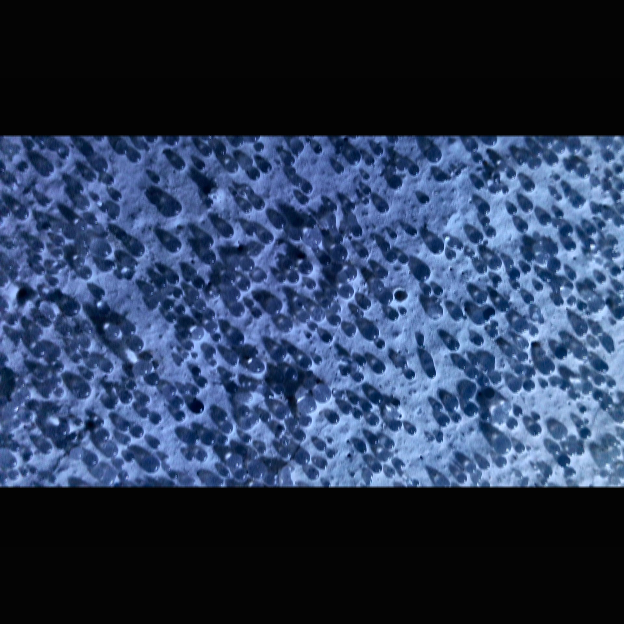GrassBeadSeg: (312, 384, 331, 403), (297, 395, 316, 414), (161, 200, 182, 217), (304, 228, 322, 247), (134, 360, 153, 376), (495, 437, 512, 454), (594, 452, 611, 469), (93, 242, 112, 257), (338, 267, 357, 282), (414, 265, 430, 282), (143, 457, 160, 473), (426, 304, 442, 321), (266, 299, 282, 315), (362, 325, 379, 340), (538, 360, 555, 375), (249, 463, 266, 478), (332, 246, 347, 262), (429, 239, 445, 254), (248, 360, 265, 374), (76, 384, 91, 399), (514, 319, 529, 334), (225, 287, 241, 301), (278, 319, 294, 333), (39, 163, 55, 177), (230, 303, 245, 317), (272, 348, 287, 362), (427, 148, 441, 163), (339, 285, 354, 299), (295, 451, 310, 465), (65, 302, 80, 316), (311, 308, 326, 322), (229, 332, 245, 345), (166, 239, 182, 252), (131, 243, 145, 257), (129, 338, 143, 352), (347, 151, 361, 165), (284, 368, 298, 382), (106, 325, 120, 339), (33, 344, 47, 358), (227, 455, 242, 468), (252, 270, 267, 283), (191, 327, 206, 340), (202, 252, 216, 265), (200, 235, 214, 248), (105, 444, 118, 458), (299, 356, 313, 369), (552, 427, 566, 440), (47, 348, 61, 361), (71, 447, 85, 460), (379, 292, 392, 305), (241, 258, 254, 271), (276, 406, 289, 419), (202, 432, 215, 445), (300, 262, 313, 275), (191, 401, 204, 414), (220, 226, 234, 238), (389, 177, 403, 189), (260, 232, 274, 244), (223, 273, 237, 285), (470, 232, 483, 244), (273, 217, 286, 229), (85, 454, 98, 466), (123, 324, 136, 336), (577, 166, 590, 178), (16, 208, 29, 220), (186, 432, 199, 444), (445, 399, 458, 411), (292, 143, 304, 156), (510, 380, 522, 393), (290, 229, 303, 241), (170, 397, 184, 408), (101, 261, 115, 272), (359, 298, 371, 310), (248, 169, 260, 181), (80, 268, 92, 280), (489, 258, 501, 270), (239, 279, 251, 291), (40, 442, 52, 454), (121, 391, 133, 403), (204, 347, 216, 359), (465, 404, 477, 416), (288, 272, 300, 284), (298, 311, 310, 323), (575, 324, 587, 336), (60, 324, 72, 336), (541, 271, 553, 283), (591, 301, 603, 313), (490, 373, 502, 385), (602, 397, 614, 409), (294, 298, 306, 310), (609, 448, 621, 460), (373, 363, 386, 374), (205, 322, 218, 333), (101, 361, 114, 372), (77, 199, 90, 210), (299, 416, 312, 427), (147, 375, 160, 386), (345, 325, 356, 337), (478, 204, 490, 215), (221, 423, 233, 434), (174, 159, 186, 170), (539, 215, 551, 226), (97, 430, 109, 441), (329, 315, 341, 326), (129, 152, 141, 163), (168, 273, 179, 285), (93, 288, 105, 299), (524, 379, 535, 391), (105, 398, 117, 409), (132, 426, 143, 438), (33, 241, 45, 252), (475, 293, 487, 304), (546, 155, 558, 166), (87, 358, 99, 369), (196, 450, 208, 461), (467, 368, 479, 379), (537, 253, 549, 264), (109, 208, 120, 220), (529, 159, 541, 170), (5, 456, 17, 467), (96, 161, 108, 172), (117, 144, 129, 155), (142, 285, 154, 296), (81, 144, 93, 155), (605, 250, 617, 261), (549, 262, 561, 273), (610, 266, 622, 277), (555, 348, 567, 359), (582, 290, 594, 301), (576, 349, 588, 360), (582, 382, 593, 394), (594, 375, 606, 386), (597, 361, 608, 373), (18, 390, 30, 401), (7, 403, 19, 414), (28, 399, 40, 410), (246, 225, 258, 236), (475, 315, 487, 326), (238, 184, 250, 195), (560, 286, 571, 298), (517, 222, 528, 233), (301, 183, 312, 194), (524, 181, 535, 192), (530, 425, 541, 436), (227, 162, 238, 173), (261, 162, 272, 173), (388, 310, 399, 321), (438, 416, 449, 427), (509, 269, 520, 280), (352, 226, 363, 237), (368, 415, 379, 426), (328, 413, 339, 424), (139, 395, 150, 406), (573, 197, 584, 208), (448, 340, 459, 351), (320, 255, 331, 266), (58, 425, 69, 436), (32, 328, 43, 339), (80, 338, 91, 349), (554, 143, 565, 154), (542, 136, 553, 147), (565, 162, 576, 173), (467, 142, 478, 153), (569, 142, 580, 153), (462, 389, 473, 400), (103, 474, 114, 485), (193, 278, 205, 288), (119, 421, 131, 431), (357, 442, 367, 454), (226, 383, 238, 393), (21, 412, 33, 422), (207, 289, 219, 299), (49, 264, 61, 274), (85, 172, 98, 181), (149, 439, 160, 449), (295, 431, 306, 441), (184, 341, 195, 351), (565, 241, 576, 251), (377, 203, 388, 213), (151, 414, 162, 424), (522, 202, 533, 212), (111, 191, 122, 201), (559, 456, 569, 467), (353, 373, 364, 383), (308, 469, 319, 479), (517, 352, 528, 362), (358, 249, 369, 259), (22, 451, 33, 461), (241, 203, 252, 213), (216, 411, 227, 421), (386, 252, 397, 262), (496, 457, 506, 468), (254, 200, 265, 210), (17, 162, 28, 172), (280, 448, 291, 458), (274, 385, 284, 396), (473, 336, 484, 346), (32, 255, 43, 265), (500, 301, 510, 312), (202, 147, 213, 157), (372, 394, 383, 404), (41, 388, 52, 398), (505, 347, 516, 357), (518, 340, 529, 350), (484, 307, 495, 317), (453, 309, 463, 320), (242, 393, 253, 403), (226, 357, 238, 366), (322, 333, 332, 343), (562, 226, 572, 236), (508, 419, 518, 429), (581, 429, 591, 439), (285, 156, 295, 166), (457, 473, 467, 483), (515, 444, 525, 454), (391, 421, 401, 431), (196, 301, 206, 311), (345, 202, 355, 212), (72, 353, 82, 363), (121, 435, 131, 445), (372, 463, 382, 473), (53, 248, 63, 258), (189, 289, 199, 299), (240, 406, 250, 416), (276, 274, 286, 284), (73, 184, 83, 194), (216, 146, 226, 156), (373, 146, 383, 156), (232, 137, 242, 147), (236, 470, 246, 480), (167, 386, 177, 396), (378, 269, 388, 279), (374, 282, 384, 292), (175, 412, 186, 421), (241, 434, 252, 443), (410, 165, 419, 176), (292, 177, 303, 186), (362, 402, 373, 411), (548, 245, 557, 256), (265, 475, 276, 484), (399, 160, 408, 171), (438, 172, 447, 183), (381, 451, 390, 462), (405, 371, 415, 380), (198, 378, 207, 388), (192, 366, 201, 376), (385, 439, 394, 449), (299, 196, 309, 205), (487, 228, 496, 238), (105, 176, 114, 186), (317, 441, 326, 451), (220, 468, 230, 477), (365, 157, 375, 166), (88, 216, 98, 225), (253, 309, 262, 319), (328, 289, 338, 298), (125, 453, 135, 462), (55, 362, 64, 372), (395, 459, 404, 469), (342, 405, 352, 414), (586, 227, 596, 236), (189, 387, 199, 396), (40, 198, 50, 207), (74, 258, 84, 267), (458, 360, 467, 370), (206, 310, 215, 320), (10, 470, 19, 480), (55, 237, 65, 246), (76, 221, 86, 230), (604, 154, 614, 163), (488, 328, 498, 337), (362, 187, 372, 196), (602, 140, 612, 149), (552, 378, 561, 388), (516, 366, 525, 376), (472, 357, 481, 367), (288, 420, 298, 429), (243, 420, 253, 429), (69, 343, 79, 352), (13, 333, 22, 343), (0, 356, 9, 366), (42, 319, 52, 328), (101, 306, 111, 315), (449, 238, 458, 248), (525, 295, 534, 304), (508, 206, 517, 215), (376, 340, 385, 349), (447, 251, 456, 260), (381, 242, 390, 251), (427, 369, 436, 378), (85, 372, 94, 381), (261, 413, 270, 422), (318, 460, 327, 469), (539, 380, 548, 389), (218, 435, 227, 444), (482, 412, 491, 421), (507, 170, 516, 179), (386, 469, 395, 478), (530, 327, 539, 336), (477, 265, 486, 274), (167, 314, 176, 323), (173, 289, 182, 298), (334, 235, 343, 244), (255, 143, 264, 152), (127, 381, 136, 390), (204, 199, 213, 208), (9, 316, 18, 325), (561, 381, 570, 390), (476, 181, 485, 190), (467, 464, 476, 473), (120, 471, 129, 480), (91, 193, 100, 202), (101, 204, 110, 213), (55, 224, 64, 233), (26, 142, 35, 151), (81, 247, 90, 256), (5, 261, 14, 270), (128, 260, 137, 269), (158, 279, 167, 288), (494, 157, 503, 166), (533, 147, 542, 156), (591, 178, 600, 187), (603, 183, 612, 192), (613, 193, 622, 202), (505, 259, 514, 268), (493, 275, 502, 284), (512, 281, 521, 290), (526, 253, 535, 262), (609, 237, 618, 246), (607, 380, 616, 389), (527, 369, 536, 378), (594, 328, 603, 337), (480, 377, 489, 386), (141, 409, 150, 418), (332, 305, 341, 314), (284, 261, 293, 270), (182, 330, 191, 339), (0, 303, 9, 312), (196, 162, 206, 170), (474, 154, 482, 164), (551, 444, 559, 454), (590, 339, 598, 349), (435, 287, 443, 296), (335, 166, 344, 174), (177, 305, 185, 314), (95, 418, 104, 426), (153, 176, 161, 185), (314, 356, 322, 365), (420, 196, 429, 204), (50, 278, 58, 287), (452, 414, 461, 422), (514, 407, 522, 416), (408, 228, 417, 236), (354, 411, 363, 419), (12, 443, 20, 452), (555, 298, 564, 306), (309, 323, 318, 331), (570, 391, 578, 400), (358, 358, 366, 367), (594, 391, 602, 400), (544, 468, 552, 477), (567, 298, 576, 306), (522, 264, 530, 273), (423, 286, 431, 295), (466, 250, 475, 258), (36, 267, 44, 276), (61, 151, 69, 160), (43, 222, 51, 231), (3, 209, 11, 218), (37, 137, 46, 145), (79, 236, 88, 244), (118, 231, 126, 240), (10, 271, 18, 280), (314, 146, 323, 154), (390, 136, 399, 144), (518, 157, 527, 165), (583, 149, 592, 157), (604, 212, 612, 221), (593, 206, 601, 215), (615, 218, 623, 227), (490, 290, 499, 298), (583, 370, 591, 379), (486, 389, 494, 398), (434, 404, 442, 413), (567, 468, 576, 476), (576, 447, 585, 455), (601, 469, 610, 477), (472, 474, 481, 482), (575, 420, 584, 428), (392, 399, 401, 407), (351, 396, 360, 404), (398, 360, 407, 368), (258, 445, 267, 453), (276, 425, 285, 433), (180, 386, 189, 394), (251, 416, 260, 424), (5, 146, 14, 154), (487, 137, 496, 145), (354, 310, 363, 318), (322, 300, 330, 309), (213, 334, 221, 342), (408, 426, 416, 434), (327, 450, 335, 458), (481, 461, 489, 469), (400, 255, 408, 263), (342, 368, 350, 376), (49, 475, 57, 483), (170, 471, 178, 479), (436, 434, 444, 442), (75, 418, 83, 426), (165, 302, 173, 310), (154, 297, 162, 305), (586, 240, 594, 248), (593, 246, 601, 254), (567, 448, 575, 456), (503, 404, 511, 412), (145, 353, 153, 361), (152, 361, 160, 369), (116, 460, 124, 468), (70, 432, 78, 440), (31, 467, 39, 475), (22, 468, 30, 476), (215, 479, 223, 487), (307, 281, 315, 289), (288, 346, 296, 354), (365, 473, 372, 482), (187, 452, 194, 461), (569, 272, 576, 281), (598, 221, 605, 230), (482, 218, 489, 226), (579, 406, 586, 414), (362, 197, 369, 205), (535, 284, 543, 291), (598, 276, 605, 284), (330, 204, 337, 212), (579, 303, 586, 311), (370, 437, 378, 444), (249, 452, 257, 459), (175, 358, 183, 365), (55, 389, 63, 396), (53, 379, 61, 386), (309, 219, 316, 227), (588, 283, 596, 290), (390, 232, 397, 239), (556, 211, 563, 218), (614, 298, 621, 305), (616, 286, 623, 293), (211, 360, 217, 367), (555, 195, 562, 201), (554, 175, 561, 181), (565, 192, 572, 198), (503, 188, 510, 194), (501, 165, 508, 171), (493, 176, 500, 182), (492, 188, 499, 194), (616, 168, 623, 174), (553, 222, 560, 228), (541, 479, 548, 485), (266, 393, 272, 400), (17, 147, 23, 154), (363, 173, 369, 180), (588, 256, 595, 262), (492, 322, 499, 328), (457, 244, 464, 250), (400, 308, 407, 314), (306, 333, 313, 339), (607, 173, 613, 179), (534, 415, 540, 421), (608, 347, 614, 353), (517, 473, 523, 479), (328, 438, 334, 444), (165, 465, 171, 471), (190, 478, 196, 484), (9, 434, 15, 440), (15, 422, 21, 428), (2, 476, 8, 482), (19, 382, 25, 388), (84, 351, 90, 357), (0, 166, 6, 172), (192, 353, 198, 359), (183, 353, 189, 359), (86, 327, 92, 333), (14, 264, 20, 270), (103, 233, 109, 239), (60, 262, 66, 268), (551, 190, 558, 195), (615, 147, 621, 152), (283, 439, 288, 445), (338, 144, 343, 150), (429, 435, 434, 441), (146, 147, 151, 152), (232, 191, 237, 196), (306, 138, 311, 143), (455, 171, 460, 176), (611, 320, 616, 325), (527, 446, 531, 451), (498, 421, 503, 425), (415, 481, 419, 486), (325, 483, 330, 487), (419, 342, 424, 346), (506, 297, 511, 301), (351, 473, 355, 477), (585, 420, 589, 424), (448, 176, 452, 180), (462, 166, 466, 170), (460, 168, 464, 172), (484, 242, 488, 246), (599, 262, 603, 266), (605, 265, 609, 269), (463, 316, 467, 320), (494, 285, 498, 289), (348, 237, 352, 241)
